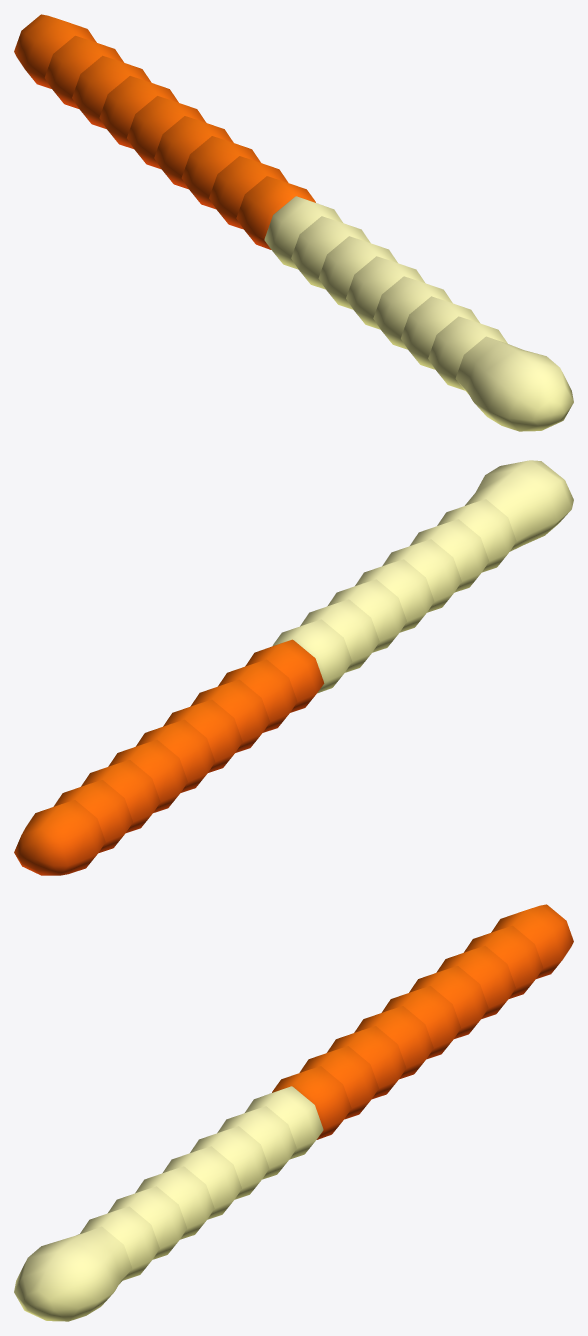
Rendered from marmalade_snake_001.glb.
3 views of the same model, one above another, from view 1: azimuth 30°, elevation 25°; view 2: azimuth 150°, elevation 25°; view 3: azimuth 330°, elevation 25° (orthographic).
Parts seen in each view (by area): view 1: marmalade_snake_001; view 2: marmalade_snake_001; view 3: marmalade_snake_001.
Part boxes in pixels (box(x1,y1,x2,y2)): marmalade_snake_001: box(14, 14, 573, 431); marmalade_snake_001: box(14, 460, 573, 875); marmalade_snake_001: box(14, 904, 573, 1321).
Bounding box in the file's own units: 0.8882 × 0.6578 × 9.35.
1 material, 1 textured.
